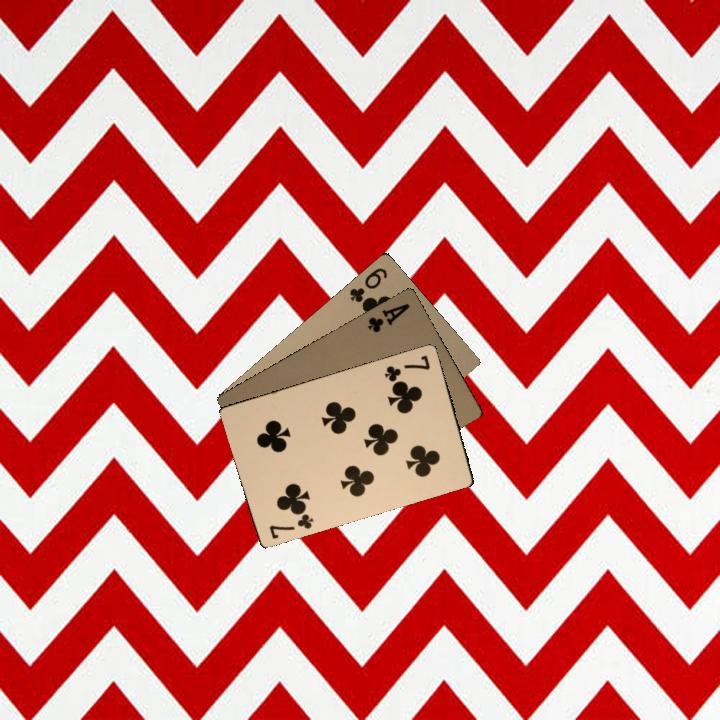6c: (345, 264, 390, 308)
7c: (265, 504, 316, 542), (380, 351, 433, 384)
Ac: (363, 299, 412, 335)
